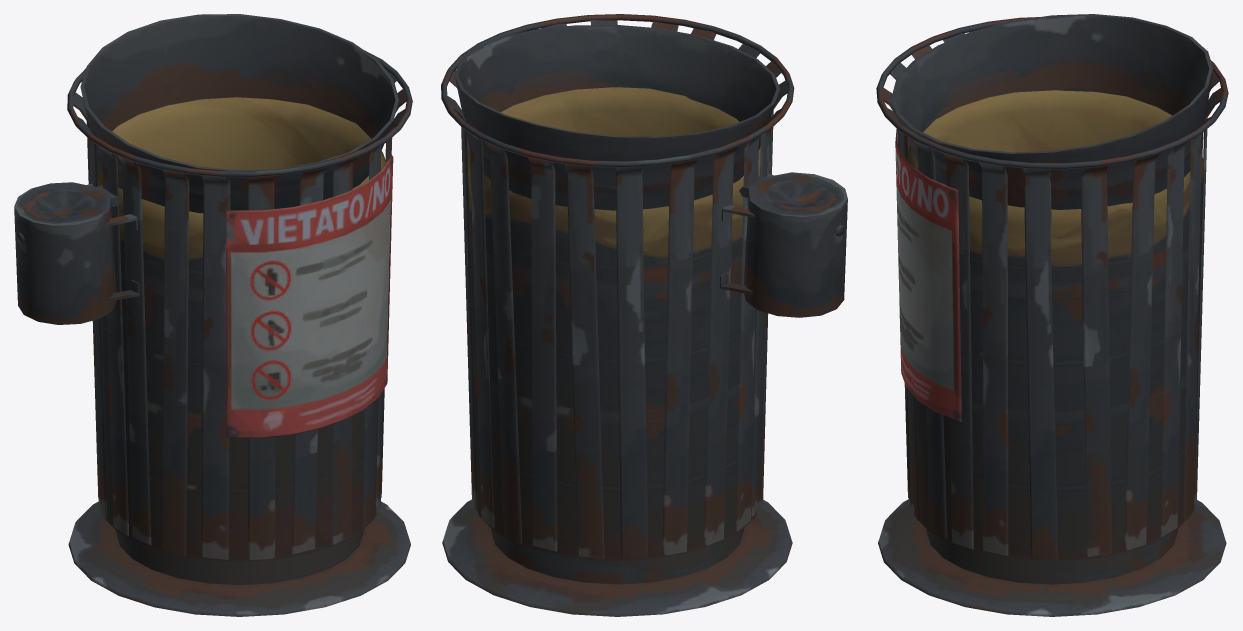
The model's file is Trashcan.glb.
3 renders of one model, left to right at view 1: azimuth 30°, elevation 25°; view 2: azimuth 150°, elevation 25°; view 3: azimuth 270°, elevation 25°, orthographic. The views are drawn at different scales.
Visible parts, largest first — view 1: RefuseKit_4_TrashCan_LOD0; view 2: RefuseKit_4_TrashCan_LOD0; view 3: RefuseKit_4_TrashCan_LOD0.
Boxes of the visible parts, x1=… form: RefuseKit_4_TrashCan_LOD0: x1=14, y1=14, x2=412, y2=616; RefuseKit_4_TrashCan_LOD0: x1=441, y1=14, x2=847, y2=616; RefuseKit_4_TrashCan_LOD0: x1=876, y1=14, x2=1228, y2=616.
Bounding box in the file's own units: 0.8301 × 1 × 0.673.
1 material, 1 textured.
